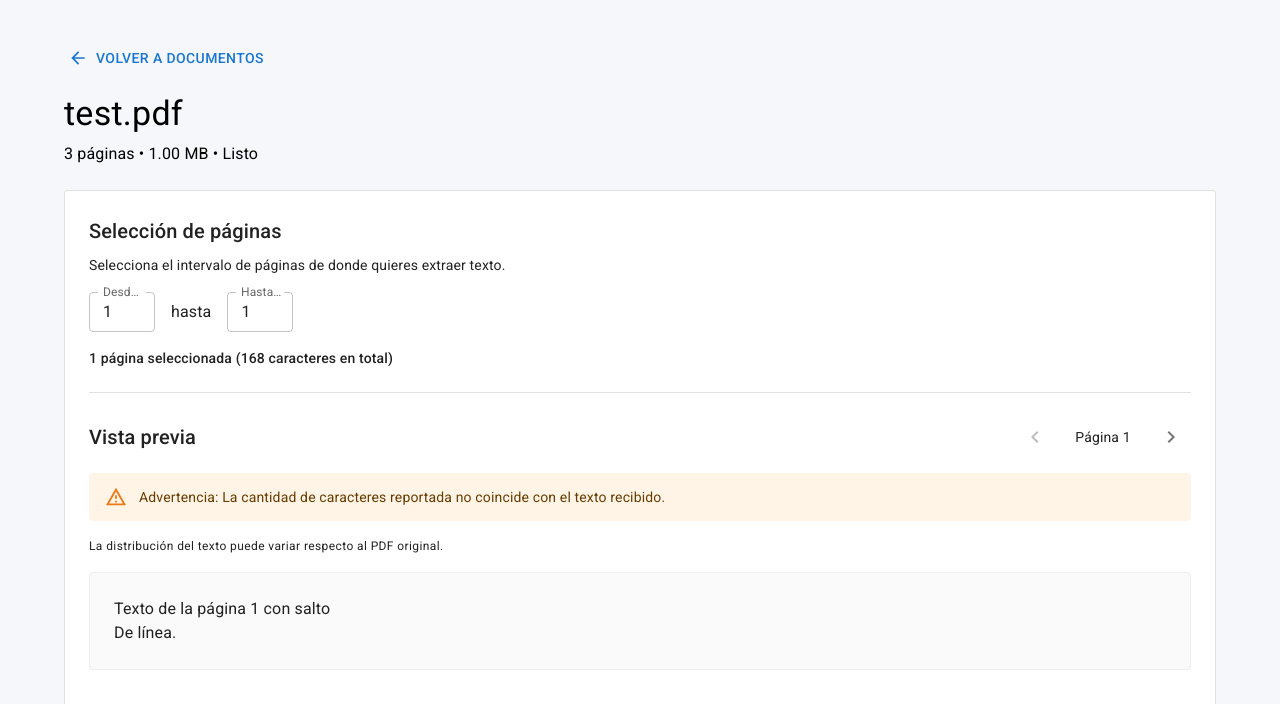
it: DocumentDetailPage › allows navigation with anterior and siguiente buttons, disabling at bounds
expect the text "Página 1" is shown: met, box [1075,428,1131,444]
expect the button named "Página anterior" is disabled: met, box [1015,416,1055,456]
Note: Clic Siguiente
Click the button named "Página siguiente" at (1171, 436), box [1151,416,1191,456]
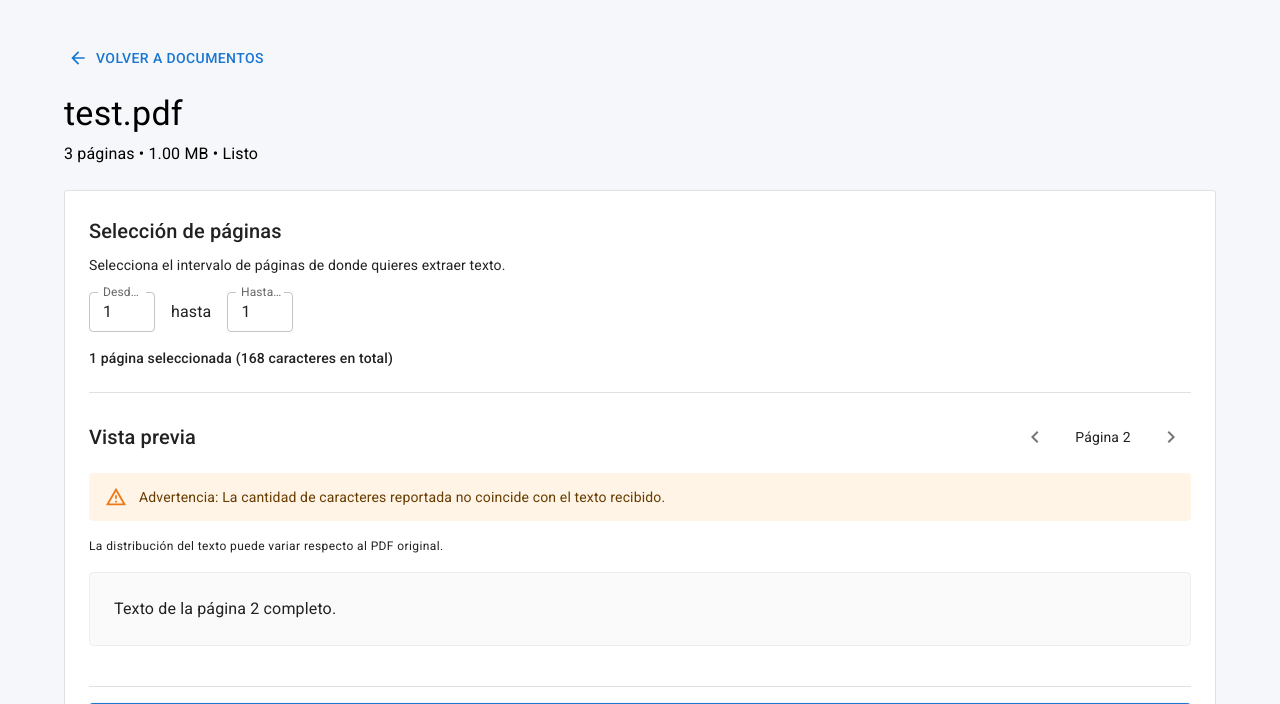
expect the text "Página 2" is shown: met, box [1075,428,1131,444]
expect the button named "Página anterior" is enabled: met, box [1015,416,1055,456]
Note: Clic Siguiente
Click the button named "Página siguiente" at (1171, 436), box [1151,416,1191,456]
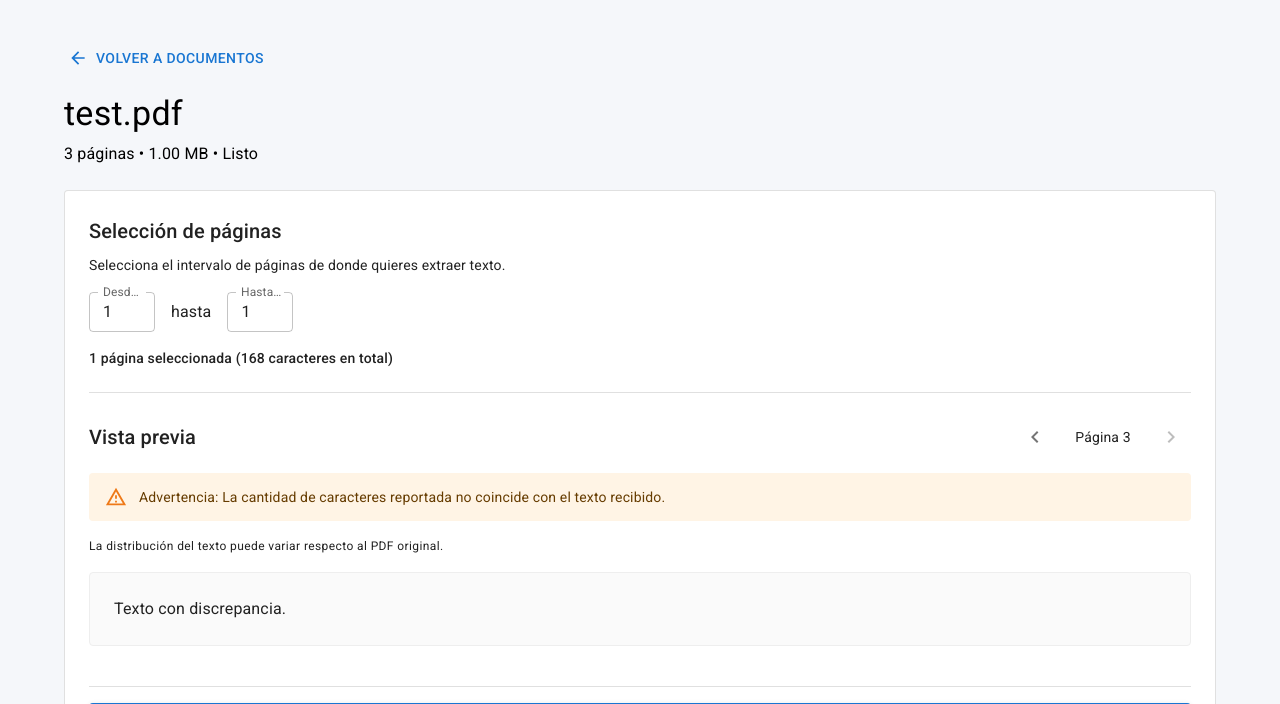
expect the button named "Página anterior" is enabled: met
expect the text "Página 3" is shown: met, box [1075,428,1131,444]
expect the button named "Página siguiente" is disabled: met, box [1151,416,1191,456]
Note: Clic Anterior
Click the button named "Página anterior" at (1035, 436), box [1015,416,1055,456]
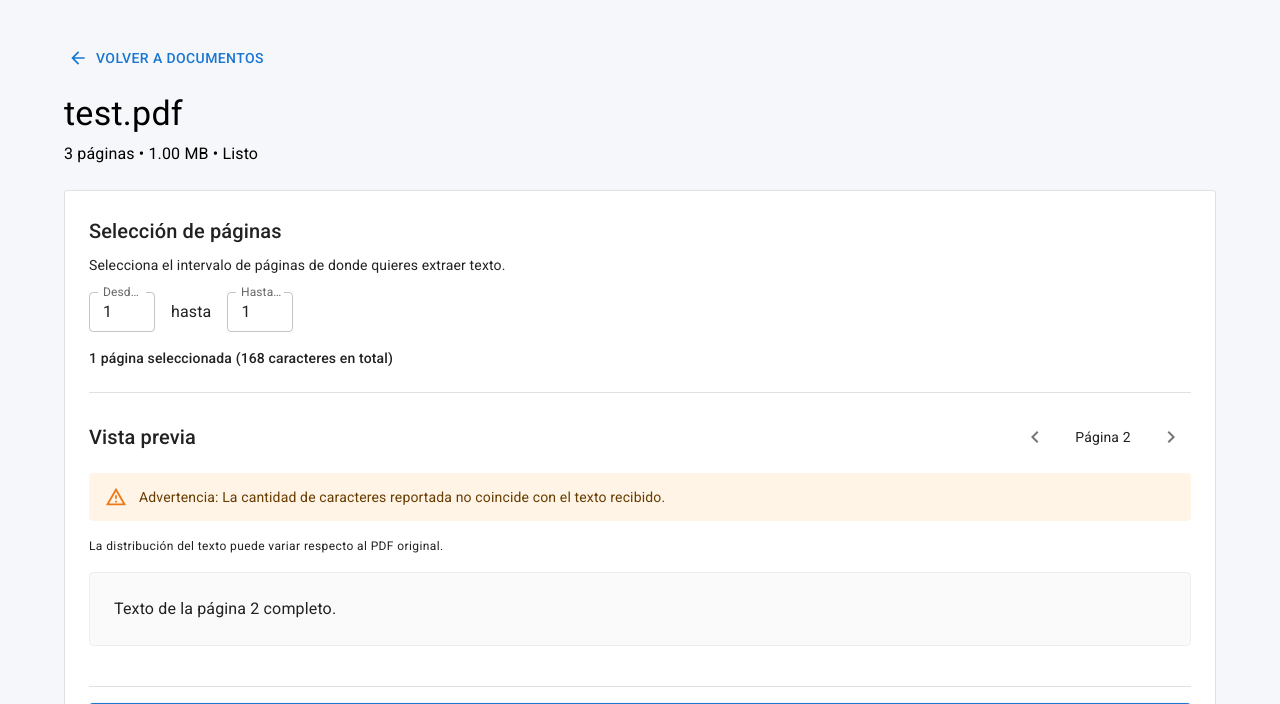
expect the text "Página 2" is shown: met, box [1075,428,1131,444]
